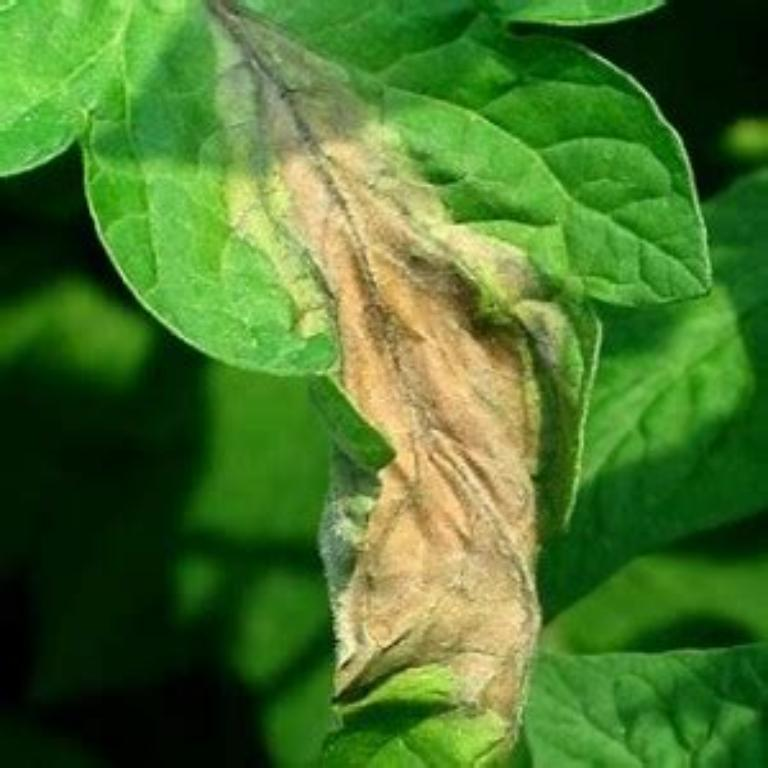blight: (221, 17, 589, 703)
